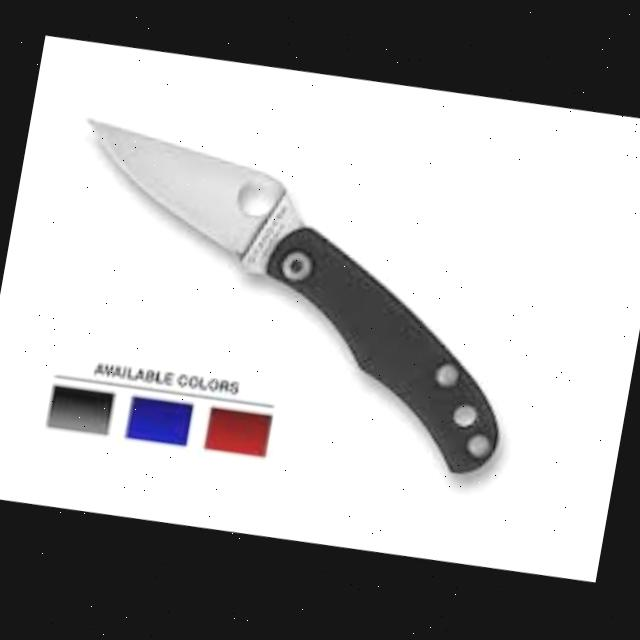knife: (32, 98, 546, 494)
